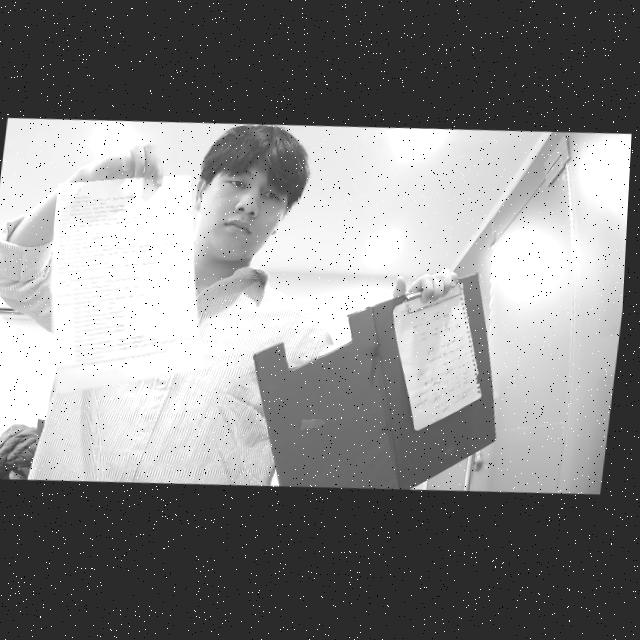document: (50, 175, 202, 392), (391, 283, 483, 433)
face: (192, 155, 296, 262)
